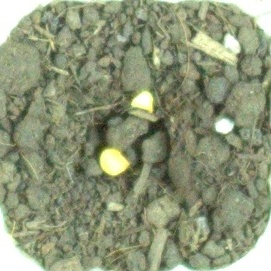pepper seed: (32, 57, 164, 236), (51, 32, 208, 147)
